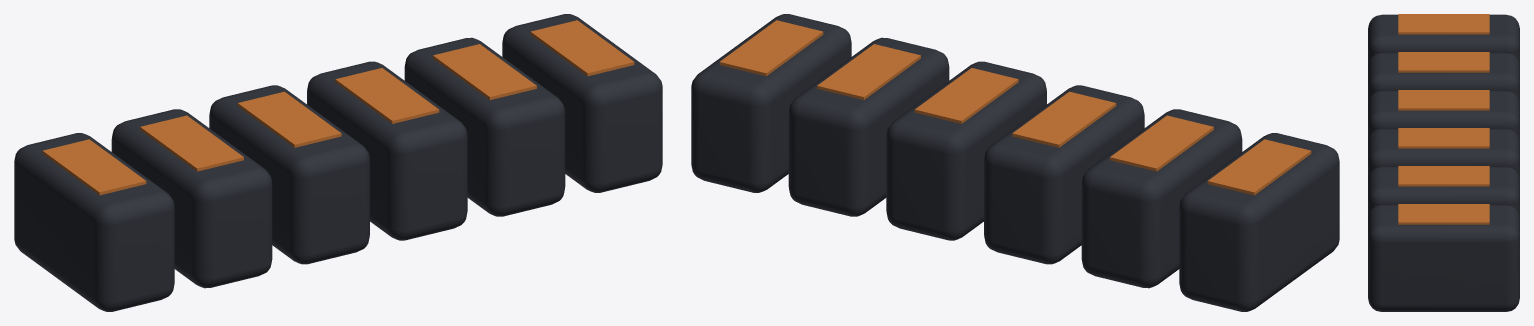
3 views of the same model, side by side, from view 1: azimuth 30°, elevation 25°; view 2: azimuth 150°, elevation 25°; view 3: azimuth 270°, elevation 25° (orthographic). The views are drawn at different scales.
Parts seen in each view (by area): view 1: part_015; view 2: part_015; view 3: part_015.
Part boxes in pixels (bbox=[...]): part_015: bbox=[14, 14, 662, 311]; part_015: bbox=[691, 14, 1339, 311]; part_015: bbox=[1368, 14, 1519, 311].
Size of the model in its own units: 0.7733 by 0.144 by 0.225.
